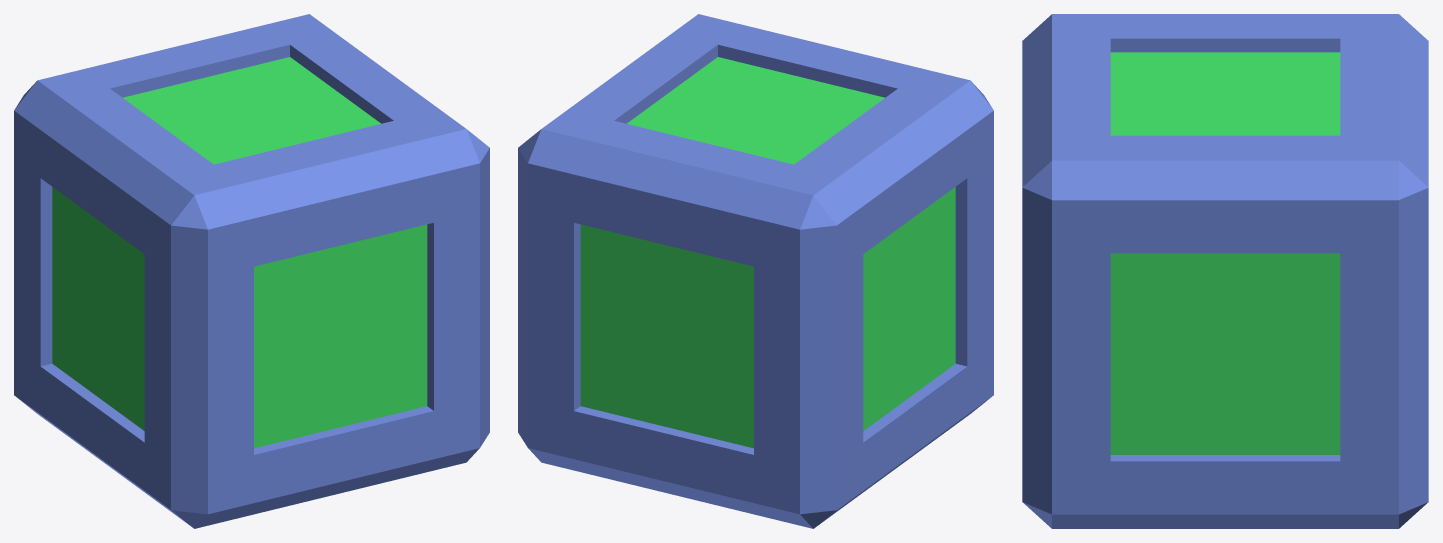
The picture shows the model from 3 angles, left to right: view 1: azimuth 30°, elevation 25°; view 2: azimuth 150°, elevation 25°; view 3: azimuth 270°, elevation 25°; orthographic projection. The views are drawn at different scales.
Visible parts, largest first — view 1: Part_B; view 2: Part_B; view 3: Part_B.
Part boxes in pixels (bbox=[...]): Part_B: bbox=[14, 14, 489, 528]; Part_B: bbox=[518, 14, 993, 528]; Part_B: bbox=[1022, 14, 1428, 528].
Size of the model in its own units: 1 by 1 by 1.
